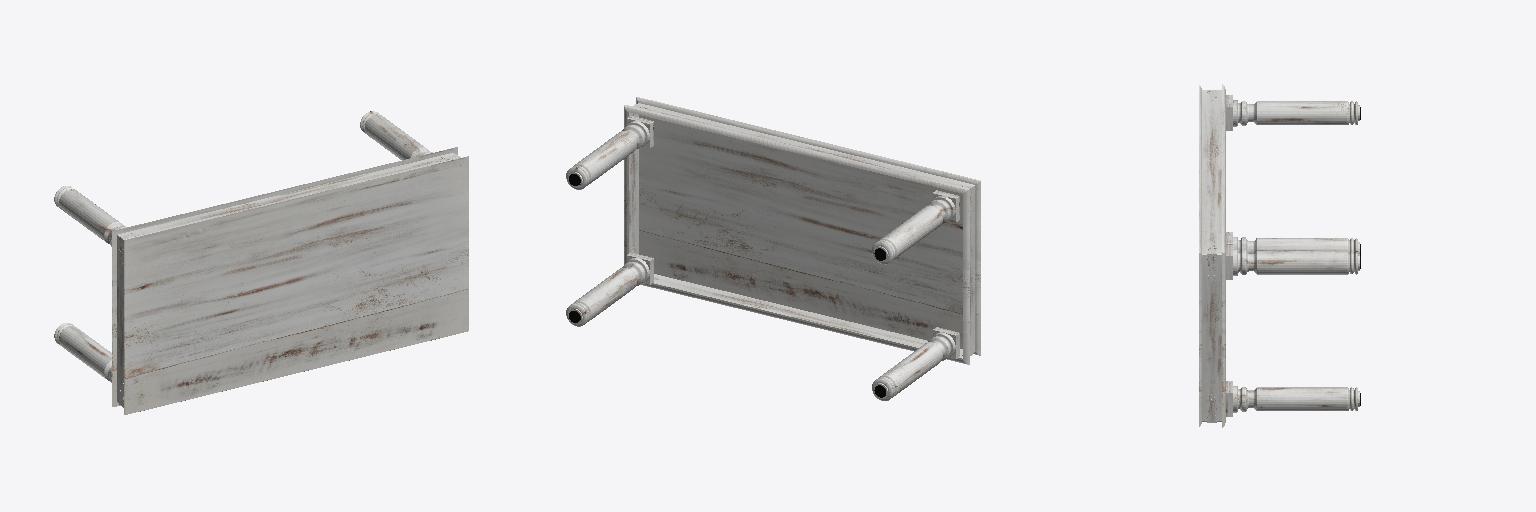
The picture shows the model from 3 angles: view 1: azimuth 30°, elevation 25°; view 2: azimuth 150°, elevation 25°; view 3: azimuth 270°, elevation 25°; orthographic projection.
Parts seen in each view (by area): view 1: table; view 2: table; view 3: table.
Boxes of the visible parts, <box> form: table: <box>54,111,468,414</box>; table: <box>566,97,980,400</box>; table: <box>1199,84,1360,427</box>.
Size of the model in its own units: 1183 by 577 by 482.
2 materials, 1 textured.